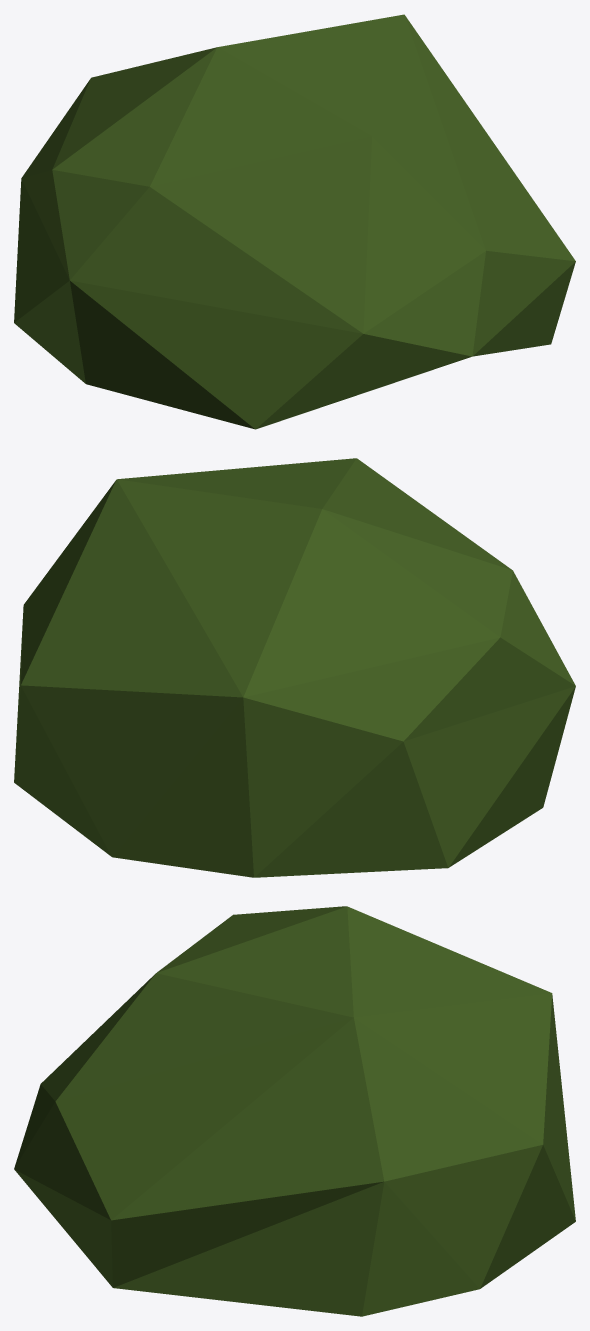
Rendered from Lumpy Bush 1.glb.
The picture shows the model from 3 angles, top to bottom: view 1: azimuth 30°, elevation 25°; view 2: azimuth 150°, elevation 25°; view 3: azimuth 270°, elevation 25°; orthographic projection. The views are drawn at different scales.
Visible parts, largest first — view 1: Lumpy Bush 1; view 2: Lumpy Bush 1; view 3: Lumpy Bush 1.
Boxes of the visible parts, x1,y1,x2,y2 form: Lumpy Bush 1: (14,14,575,429); Lumpy Bush 1: (14,458,575,877); Lumpy Bush 1: (14,906,575,1316).
Bounding box in the file's own units: 0.5428 × 0.2982 × 0.5527.
